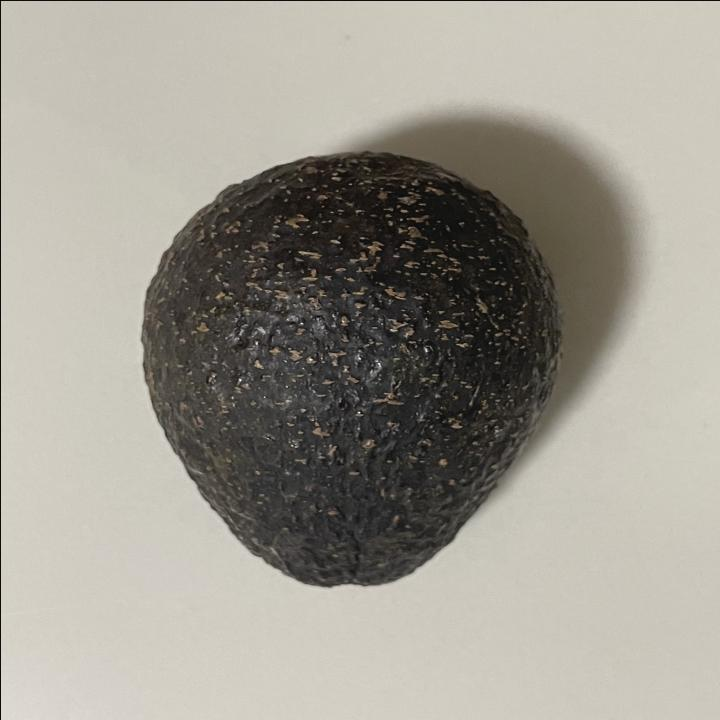Level2: (129, 142, 570, 598)
